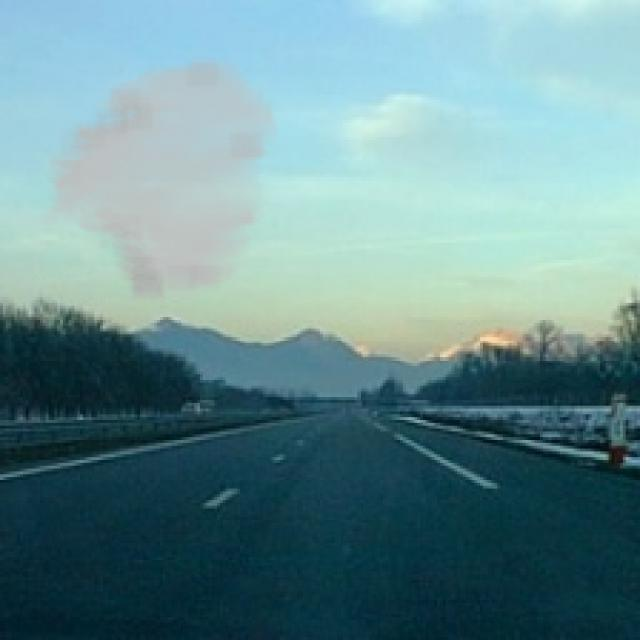smoke: (37, 54, 280, 306)
